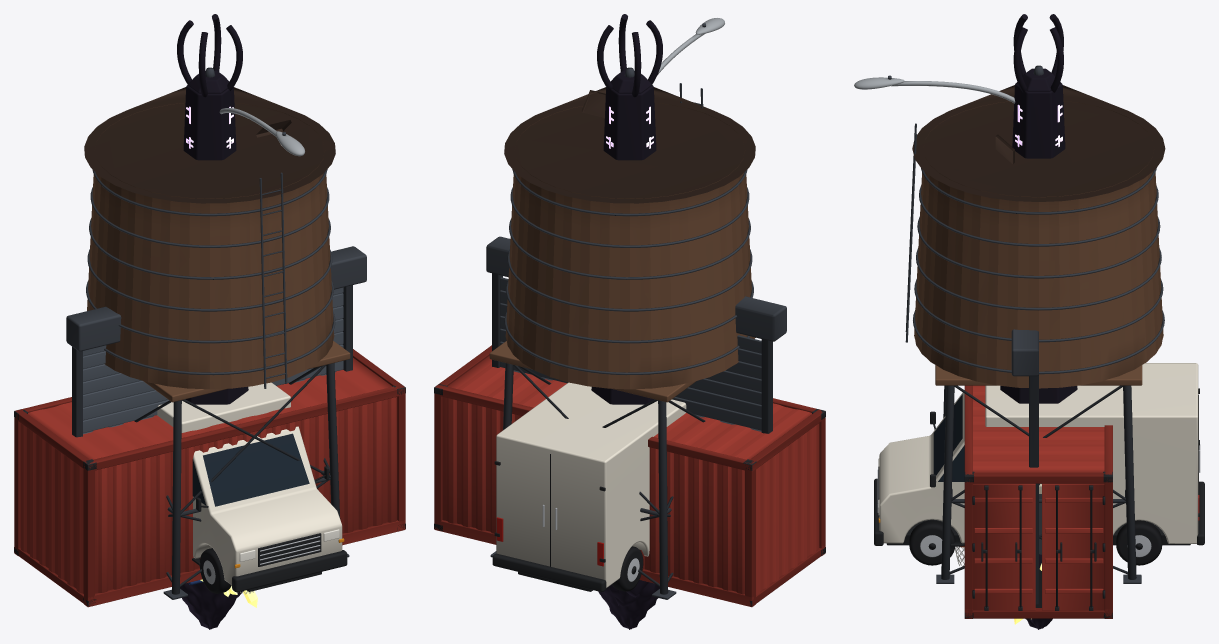
Rendered from props.glb.
The picture shows the model from 3 angles, left to right: view 1: azimuth 30°, elevation 25°; view 2: azimuth 150°, elevation 25°; view 3: azimuth 270°, elevation 25°; orthographic projection.
Parts seen in each view (by area): view 1: container_container_paint, water_tower_tank_wood, water_tower_tank_roof, van_van_white, water_tower_steel_dark, obelisk_obsidian, rollup_door_door_steel, van_glass_dark, rollup_door_steel_dark, van_plastic_dark, island_base_eclipse_rock, streetlight_galvanized (+2 smaller); view 2: water_tower_tank_wood, container_container_paint, van_van_white, water_tower_tank_roof, water_tower_steel_dark, obelisk_obsidian, rollup_door_door_steel, rollup_door_steel_dark, van_plastic_dark, island_base_eclipse_rock, van_rubber_black, streetlight_galvanized; view 3: water_tower_tank_wood, container_container_paint, van_van_white, water_tower_tank_roof, water_tower_steel_dark, obelisk_obsidian, rollup_door_steel_dark, container_container_dark, van_rubber_black, van_plastic_dark, van_glass_dark, streetlight_galvanized (+1 smaller).
Part boxes in pixels (x1,y1,x2,y2): container_container_paint: (14, 349, 405, 607); water_tower_tank_wood: (87, 103, 350, 402); water_tower_tank_roof: (84, 87, 335, 203); van_van_white: (157, 382, 342, 584); water_tower_steel_dark: (86, 67, 349, 599); obelisk_obsidian: (177, 14, 248, 404); rollup_door_door_steel: (83, 287, 343, 434); van_glass_dark: (192, 433, 309, 506); rollup_door_steel_dark: (66, 246, 366, 437); van_plastic_dark: (192, 466, 347, 592); island_base_eclipse_rock: (180, 582, 236, 629); streetlight_galvanized: (219, 108, 305, 156); water_tower_tank_wood: (489, 103, 755, 402); container_container_paint: (434, 345, 825, 607); van_van_white: (496, 382, 686, 587); water_tower_tank_roof: (504, 87, 755, 203); water_tower_steel_dark: (490, 67, 753, 599); obelisk_obsidian: (591, 14, 662, 404); rollup_door_door_steel: (500, 277, 761, 431); rollup_door_steel_dark: (486, 236, 786, 433); van_plastic_dark: (492, 454, 636, 591); island_base_eclipse_rock: (598, 582, 659, 629); van_rubber_black: (612, 546, 643, 591); streetlight_galvanized: (657, 18, 724, 75); water_tower_tank_wood: (914, 101, 1163, 388); container_container_paint: (964, 385, 1112, 618); van_van_white: (879, 363, 1198, 543); water_tower_tank_roof: (912, 85, 1165, 201); water_tower_steel_dark: (905, 65, 1164, 583); obelisk_obsidian: (1000, 14, 1077, 569); rollup_door_steel_dark: (1011, 329, 1038, 604); container_container_dark: (964, 471, 1112, 618); van_rubber_black: (909, 520, 1162, 565); van_plastic_dark: (874, 388, 1204, 549); van_glass_dark: (933, 394, 964, 481); streetlight_galvanized: (854, 77, 1015, 103).
Bounding box in the file's own units: 6.16 × 11.03 × 5.77.
